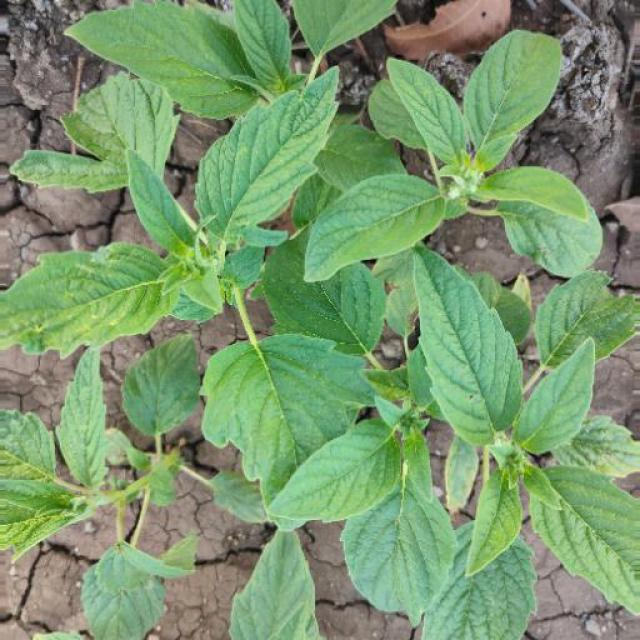crop: (20, 8, 640, 622)
